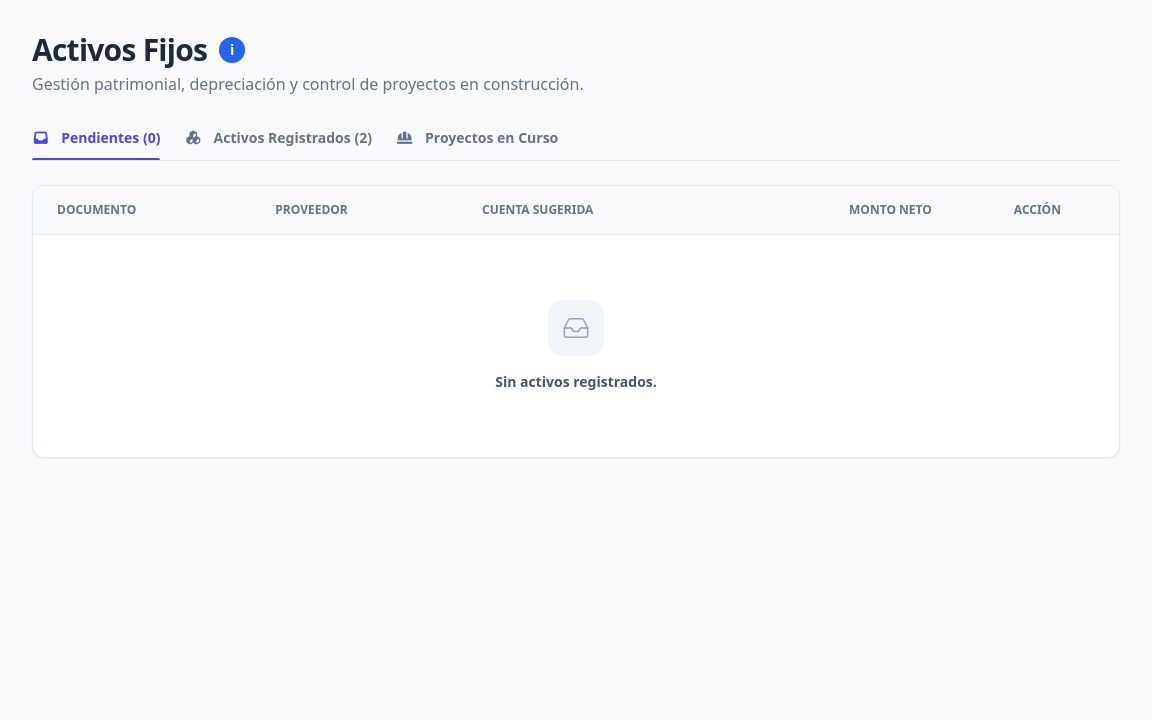
Test: GestionActivos - lista de registrados › muestra los activos registrados al cambiar de tab
The width and height of the screenshot is (1152, 720).
Click the button "Activos Registrados (2)" at (278, 144), box [184,128,372,160]
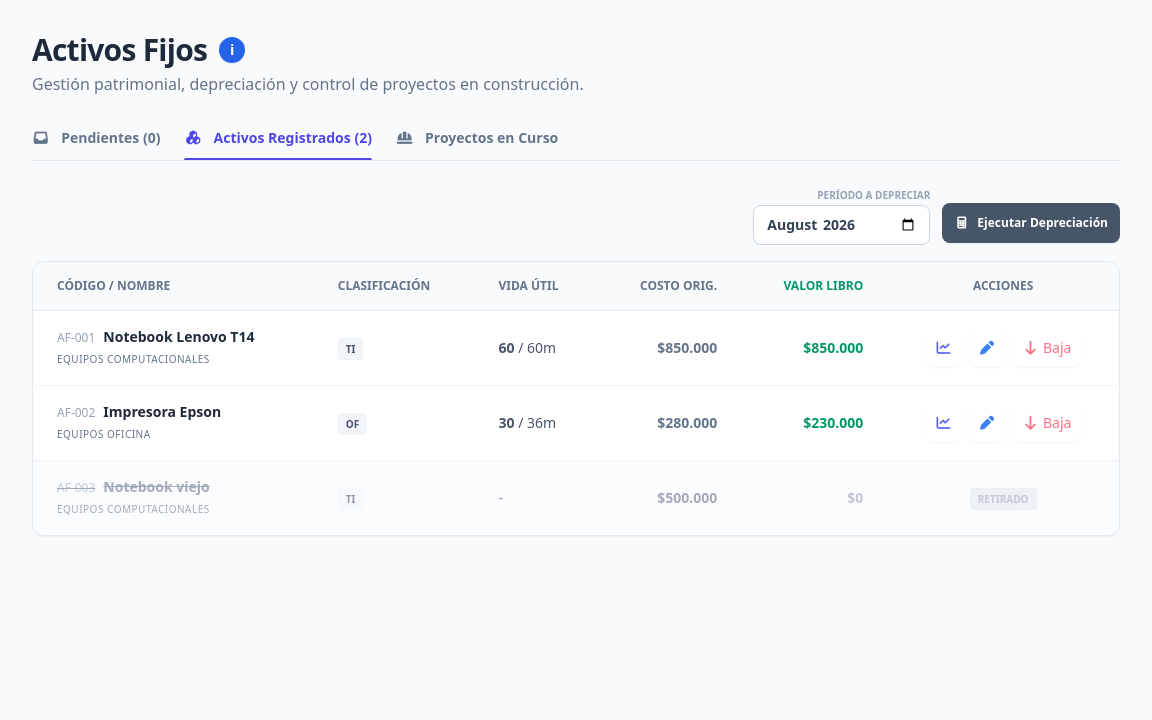
Now the text "Notebook Lenovo T14" is shown, box [103,327,254,346]
Now the text "Impresora Epson" is shown, box [103,402,221,421]
